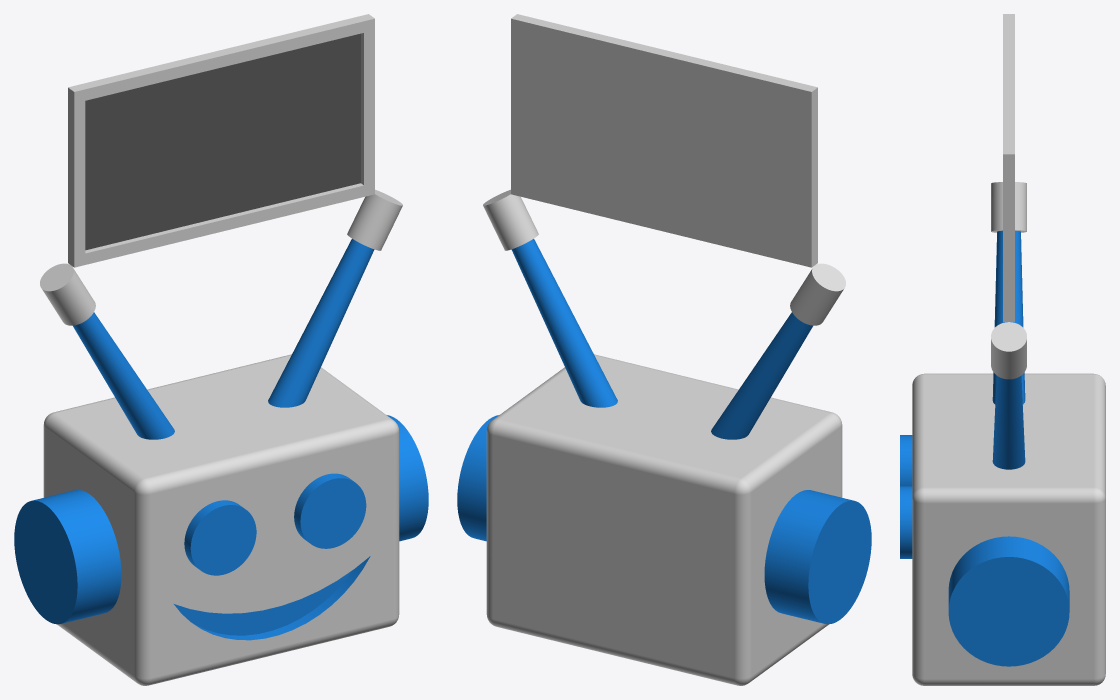
Rendered from robot head screen.fbx.
3 views of the same model, side by side, from view 1: azimuth 30°, elevation 25°; view 2: azimuth 150°, elevation 25°; view 3: azimuth 270°, elevation 25° (orthographic). The views are drawn at different scales.
Visible parts, largest first — view 1: Robot Head.SLDPRT; view 2: Robot Head.SLDPRT; view 3: Robot Head.SLDPRT.
Part boxes in pixels (x1=…): Robot Head.SLDPRT: x1=14, y1=14, x2=428, y2=685; Robot Head.SLDPRT: x1=457, y1=14, x2=871, y2=685; Robot Head.SLDPRT: x1=900, y1=14, x2=1105, y2=685.
Size of the model in its own units: 41.39 by 63.04 by 21.59.
